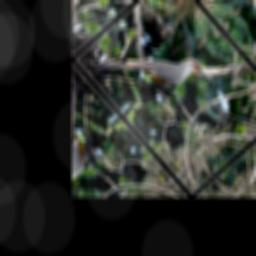Cuckoo: (88, 6, 215, 136)
